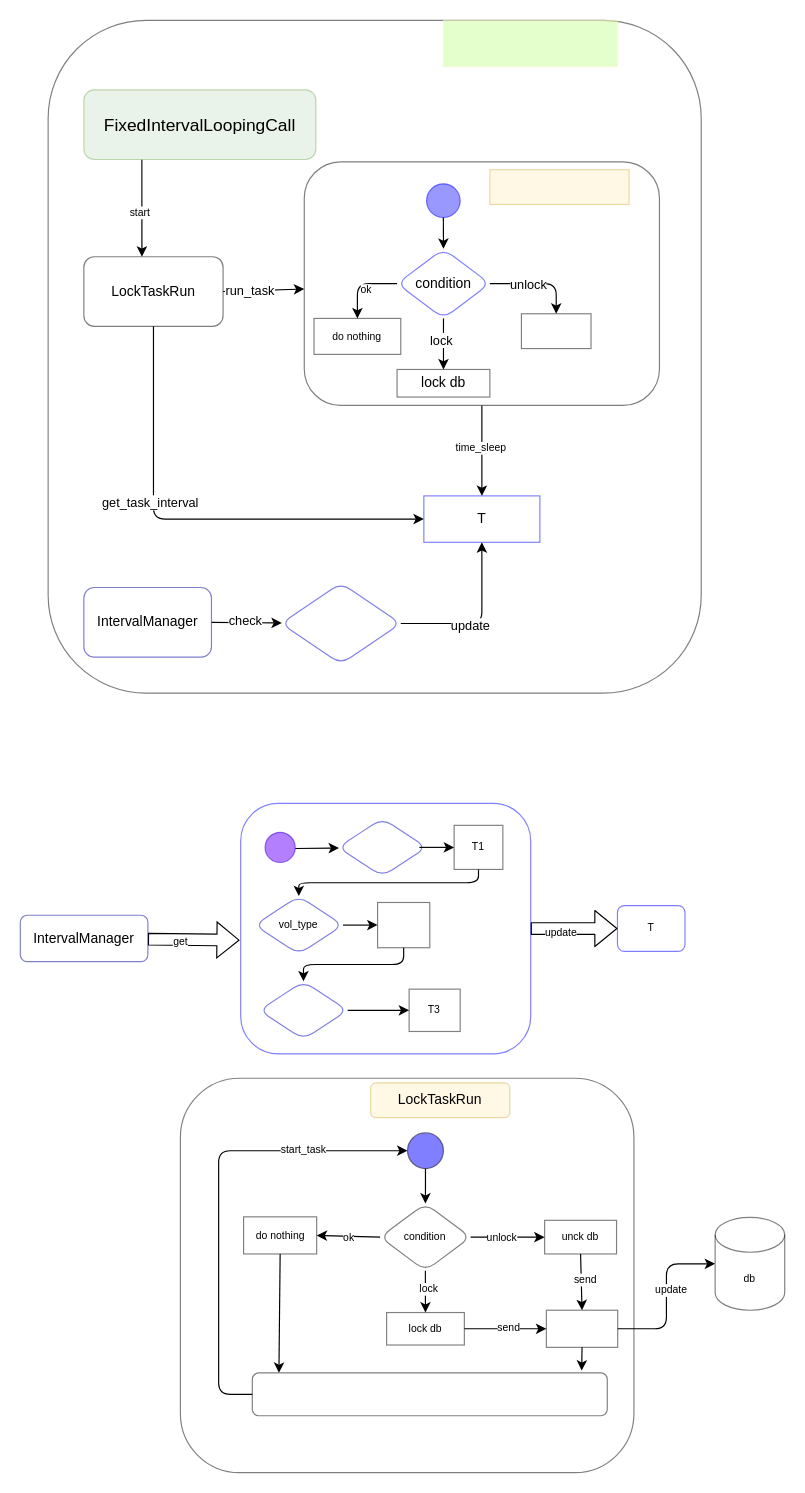
Some shapes in this 805 by 1493 pixel diagram are drawn without their labels. Here are the shapes that lost their labels. From the top down, the box of each, then its label:
(442, 19, 617, 67): MysqlManager
(489, 169, 629, 205): LOCK_OR_UNLOCK
(520, 313, 591, 349): unlock db
(280, 582, 401, 664): cpu vol_type vol_use
(337, 817, 427, 876): cpu
(376, 901, 430, 948): T2
(258, 980, 348, 1039): vol_use
(545, 1309, 618, 1347): rpc
(251, 1372, 607, 1416): time.sleep(T)
